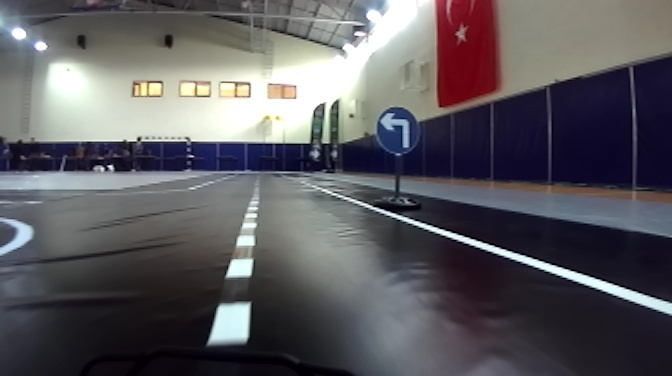sola_donus: (373, 102, 425, 154)
